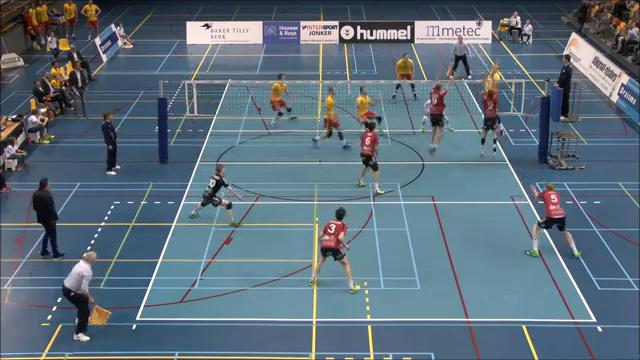attacco: (479, 57, 504, 94)
muro: (426, 60, 455, 157), (477, 68, 501, 159)
